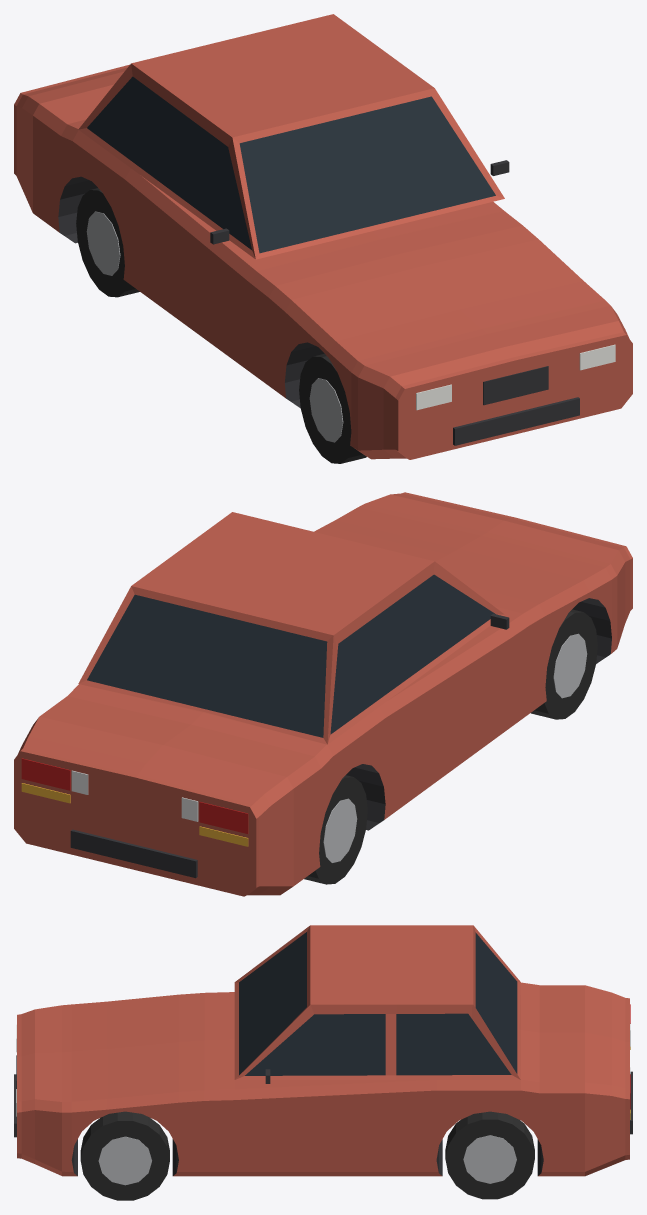
Rendered from saloon_2101.glb.
3 renders of one model, top to bottom at view 1: azimuth 30°, elevation 25°; view 2: azimuth 150°, elevation 25°; view 3: azimuth 270°, elevation 25°, orthographic. The views are drawn at different scales.
Parts seen in each view (by area): view 1: paint, glass, wheel_fr, trim, wheel_rr, headlights; view 2: paint, glass, wheel_fr, wheel_rr, trim, taillights, reverse_lights; view 3: paint, glass, wheel_fl, wheel_rl, trim.
Part boxes in pixels (x1,y1,x2,y2): paint: [14, 14, 632, 459]; glass: [87, 76, 495, 253]; wheel_fr: [299, 353, 366, 463]; trim: [453, 366, 579, 445]; wheel_rr: [76, 188, 139, 297]; headlights: [416, 344, 615, 410]; paint: [14, 492, 632, 896]; glass: [87, 574, 495, 737]; wheel_fr: [531, 609, 597, 719]; wheel_rr: [304, 775, 367, 884]; trim: [70, 829, 197, 878]; taillights: [21, 758, 248, 833]; reverse_lights: [71, 770, 198, 821]; paint: [17, 925, 629, 1176]; glass: [239, 932, 517, 1075]; wheel_fl: [80, 1111, 169, 1200]; wheel_rl: [445, 1111, 534, 1199]; trim: [14, 1055, 632, 1137].
Bounding box in the file's own units: 1.83 × 1.38 × 4.11.
